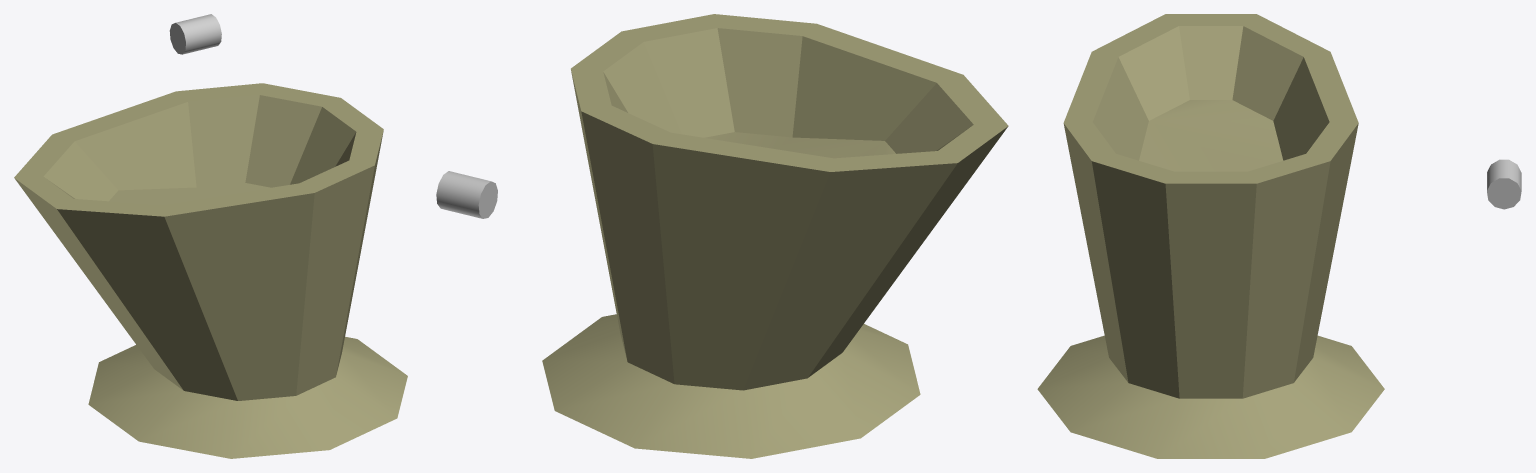
Rendered from SM_Toilet_02.fbx.
3 views of the same model, side by side, from view 1: azimuth 30°, elevation 25°; view 2: azimuth 150°, elevation 25°; view 3: azimuth 270°, elevation 25° (orthographic). The views are drawn at different scales.
Visible parts, largest first — view 1: SM_Toilet_02; view 2: SM_Toilet_02; view 3: SM_Toilet_02.
Part boxes in pixels (bbox=[...]): SM_Toilet_02: bbox=[14, 14, 407, 458]; SM_Toilet_02: bbox=[436, 14, 1008, 458]; SM_Toilet_02: bbox=[1037, 14, 1521, 458].
Bounding box in the file's own units: 65.82 × 45.07 × 74.72.
Materials: 1 (1 with a texture image).
